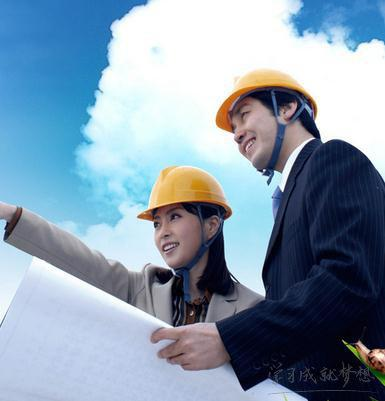helmet: (210, 64, 326, 176), (133, 159, 233, 266)
